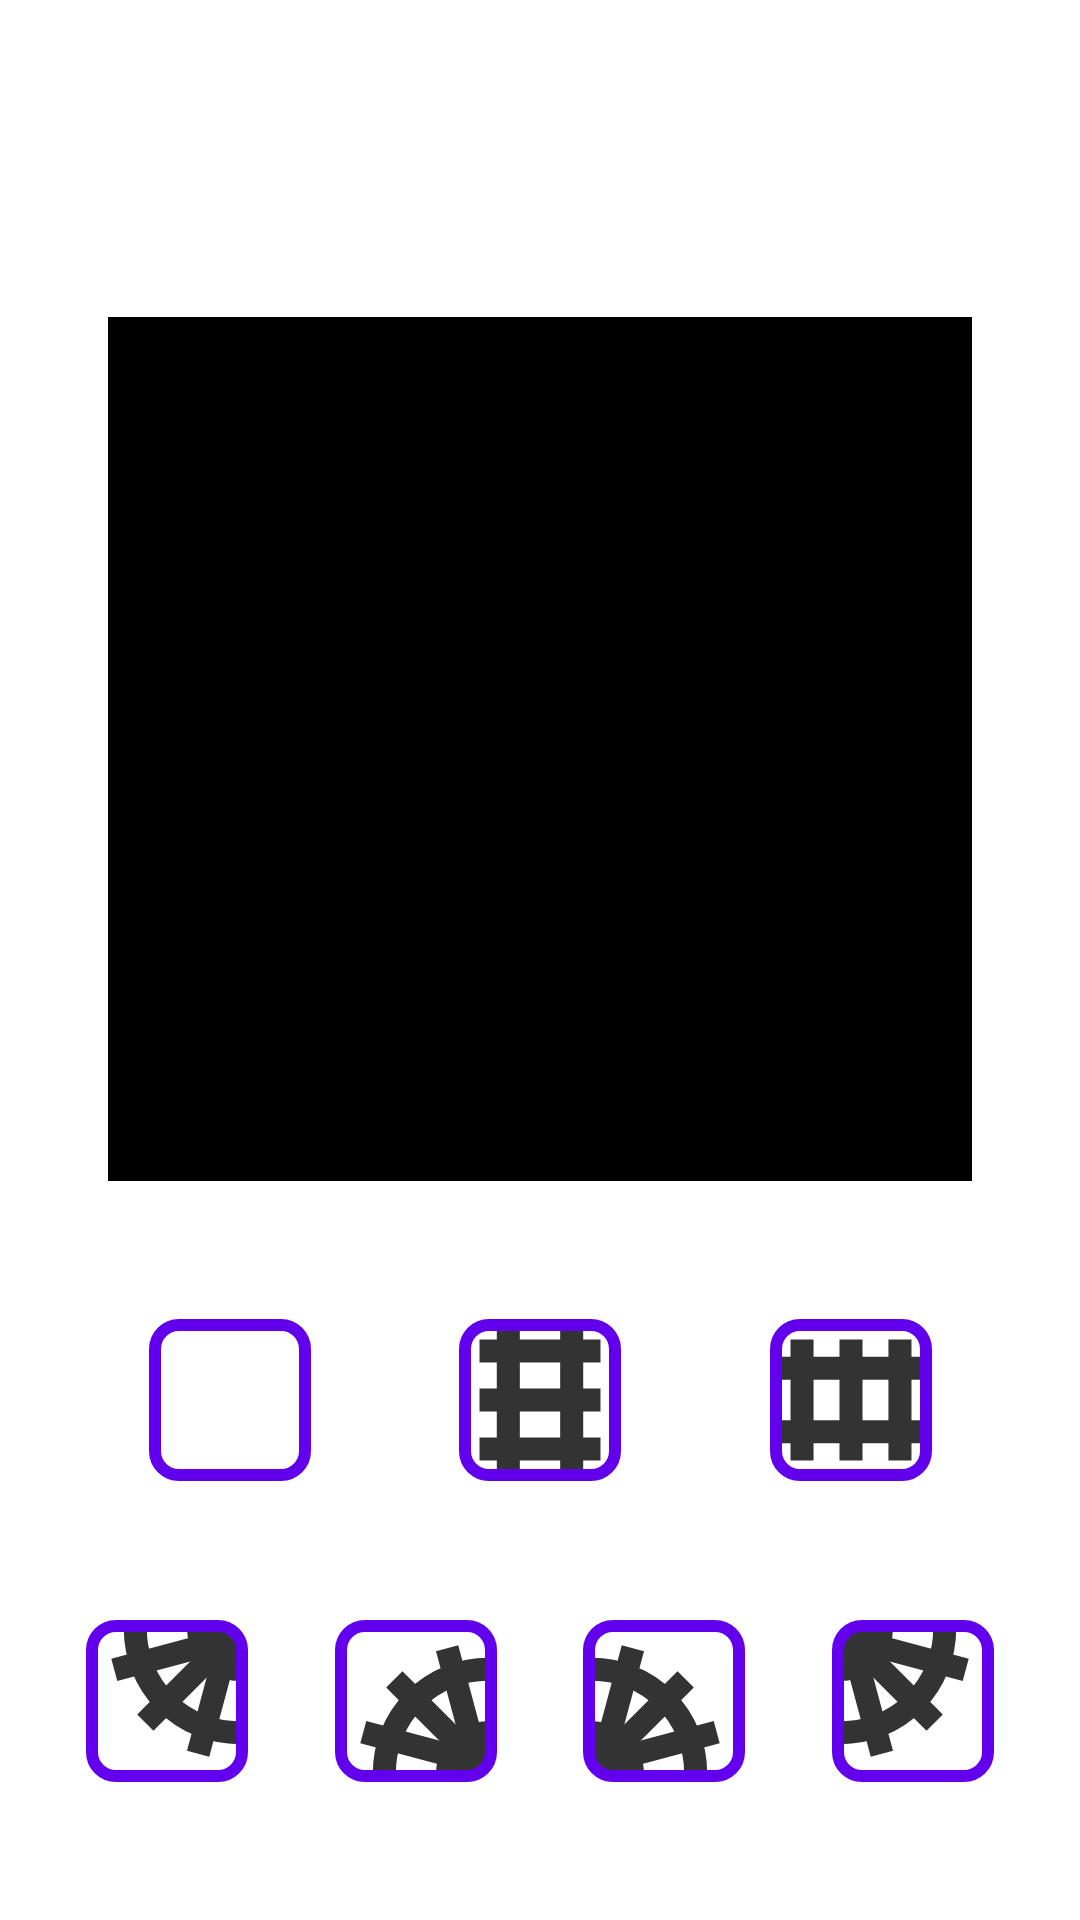

Screen size 1080 × 1920. Icon name, then its center in pixels as (x,y):
corner track ne: (167,1701)
corner track nw: (913,1701)
corner track se: (416,1701)
corner track sw: (664,1701)
straight track horizontal: (851,1400)
straight track vertical: (540,1400)
